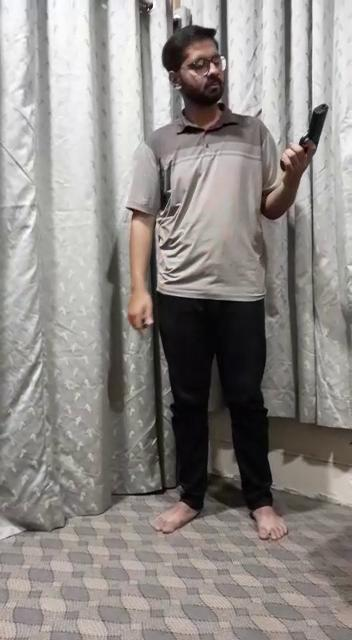criminal: (125, 22, 335, 543)
weapon: (274, 102, 333, 175)
